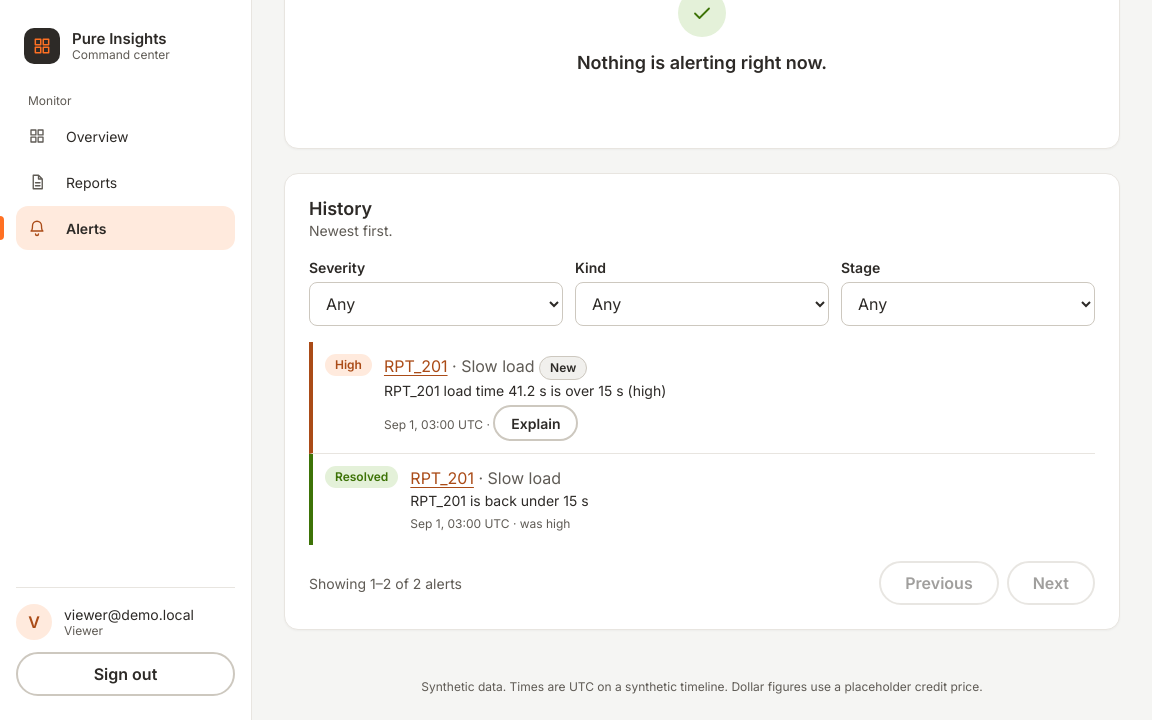
Scenario: Explain this alert › says who wrote it: an AI (with its model), rules, or rules because the AI was unavailable
(page scrolled)
Click the button with aria-label "Explain alert 1": [536, 423] box 493,405 -> 578,441
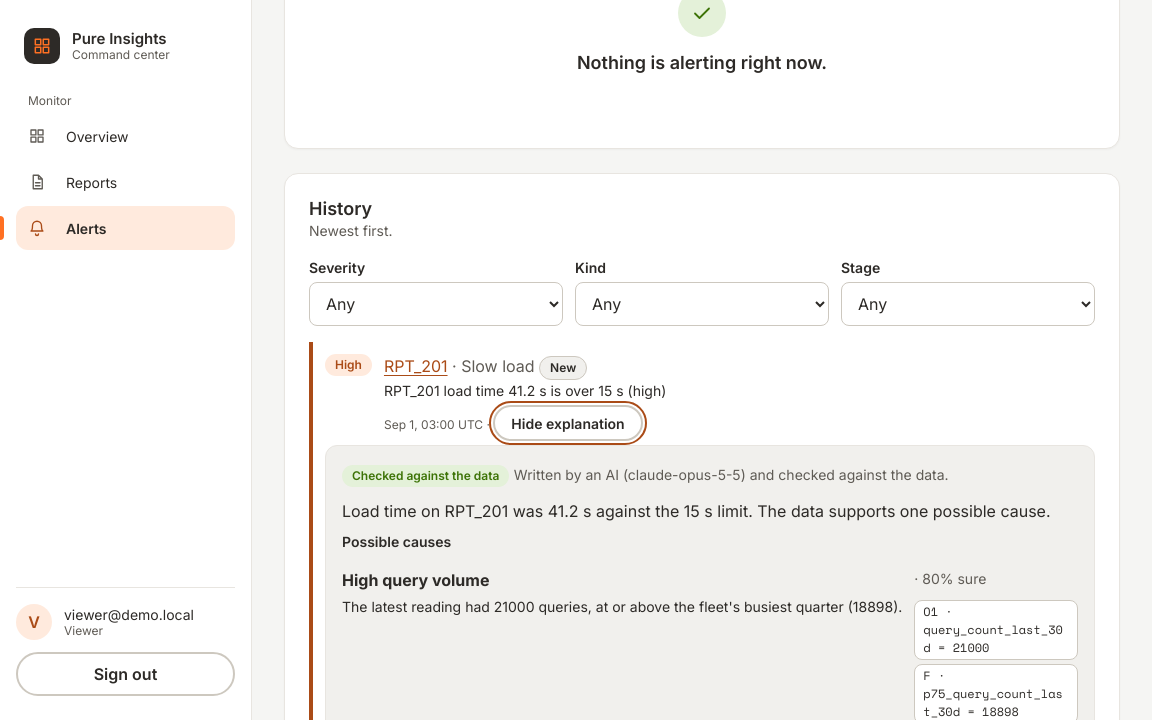
Check: the text "Written by an AI (claude-opus-5-5) and checked against the data." is shown, box 514,466 -> 949,483
